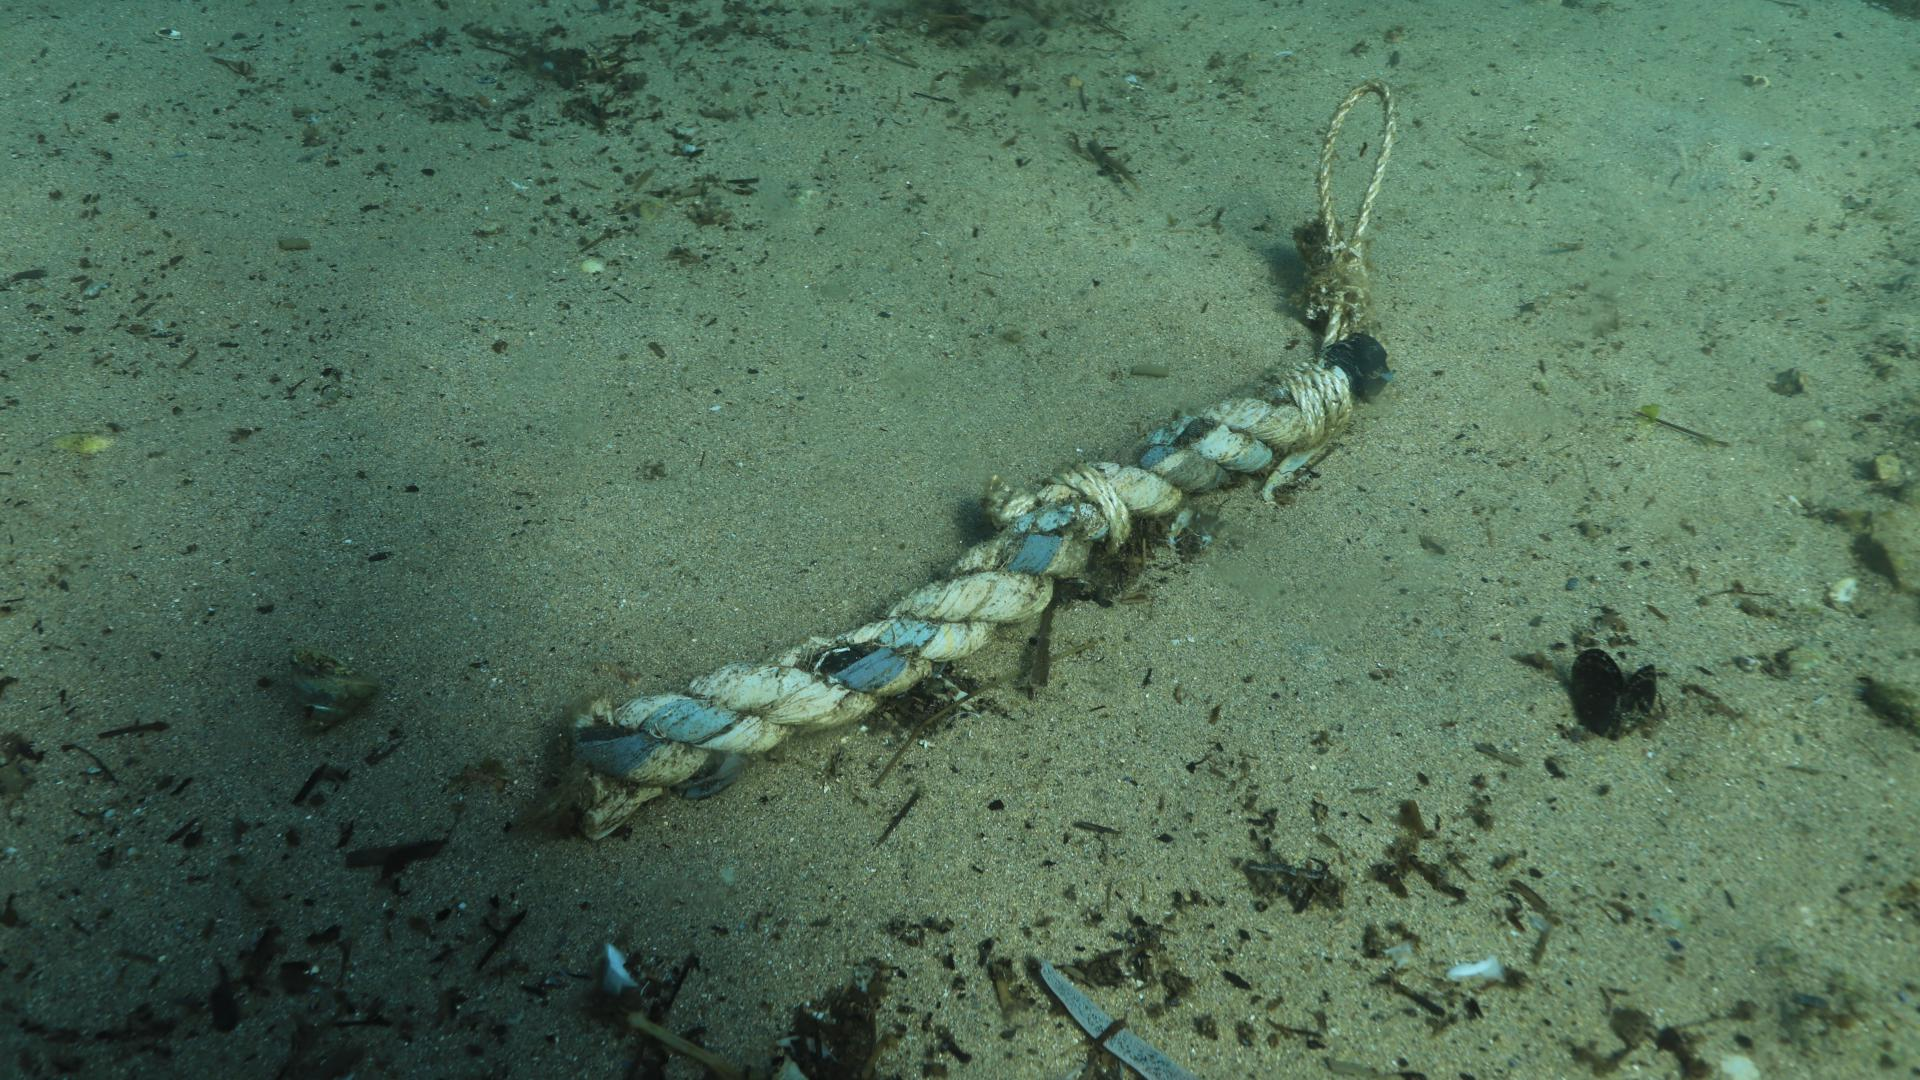bundle of ropes: (570, 327, 1396, 835), (1313, 75, 1398, 363)
